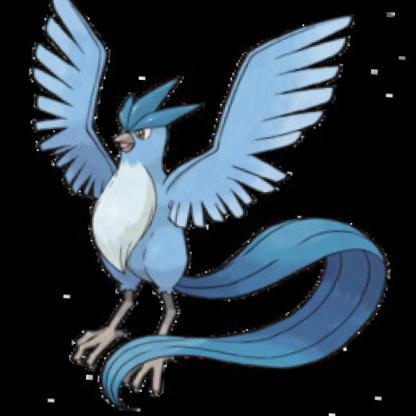Articuno: (1, 32, 416, 416)
